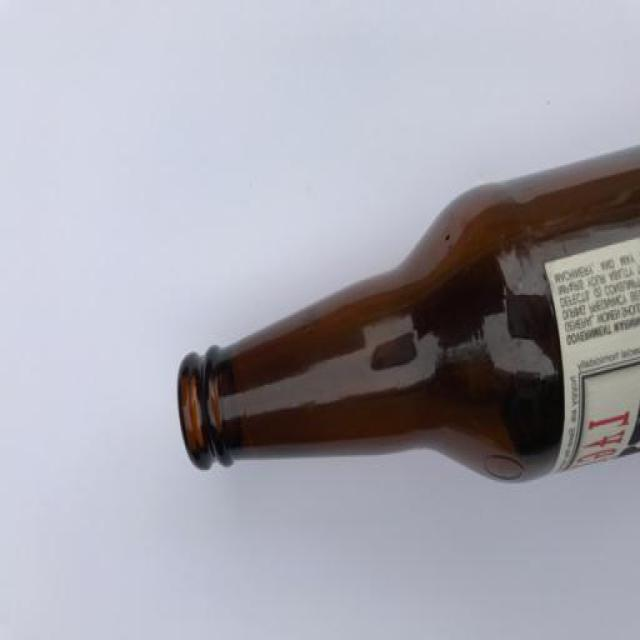glass: (175, 147, 640, 483)
